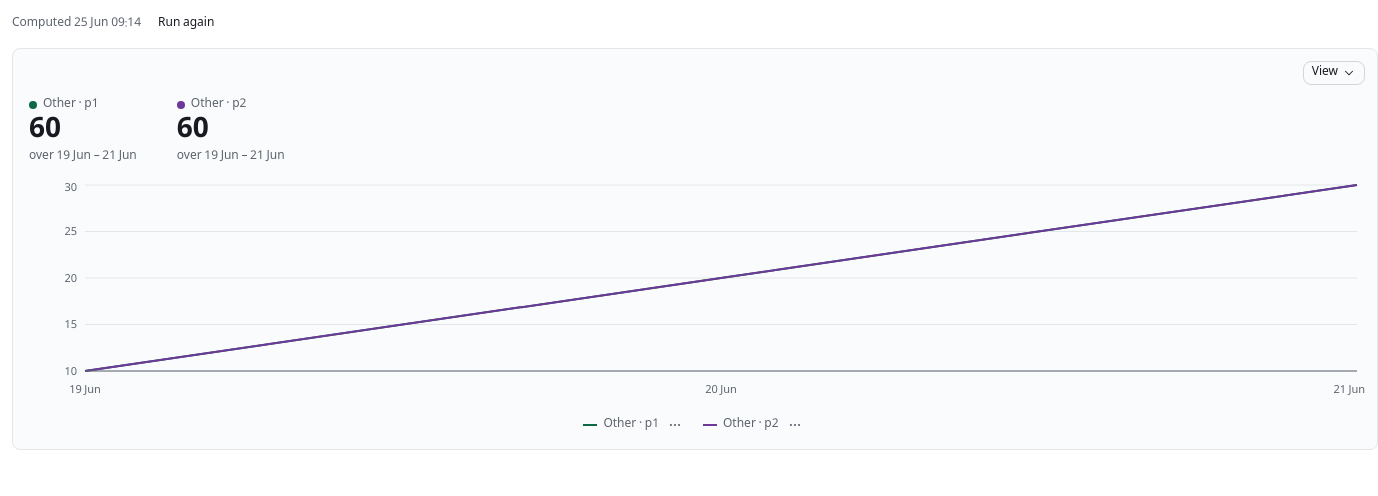
Test: AC-1138/1139/1141 — the legend is real buttons › isolates a series from its kebab menu, hiding every other one
Step 1. Click the 1st button named "Isolate" → (675, 425), box x1=663 y1=413 x2=687 y2=437
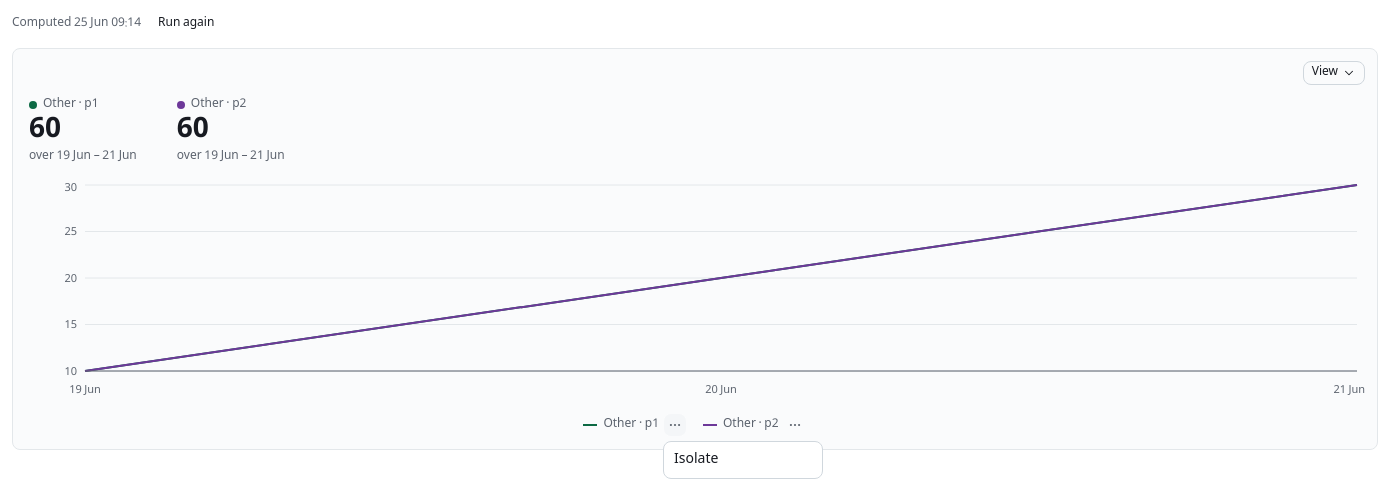
Step 2. Click the menu item "Isolate" → (696, 460), box x1=674 y1=448 x2=718 y2=472
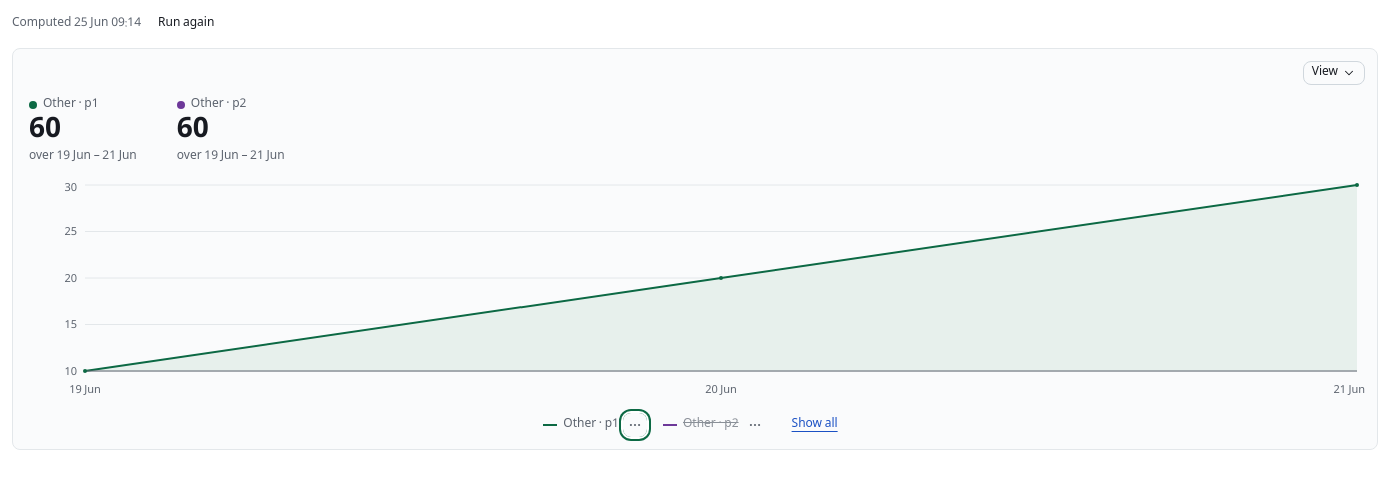
Expected: the button "Show all" is shown, x1=783 y1=413 x2=847 y2=437
